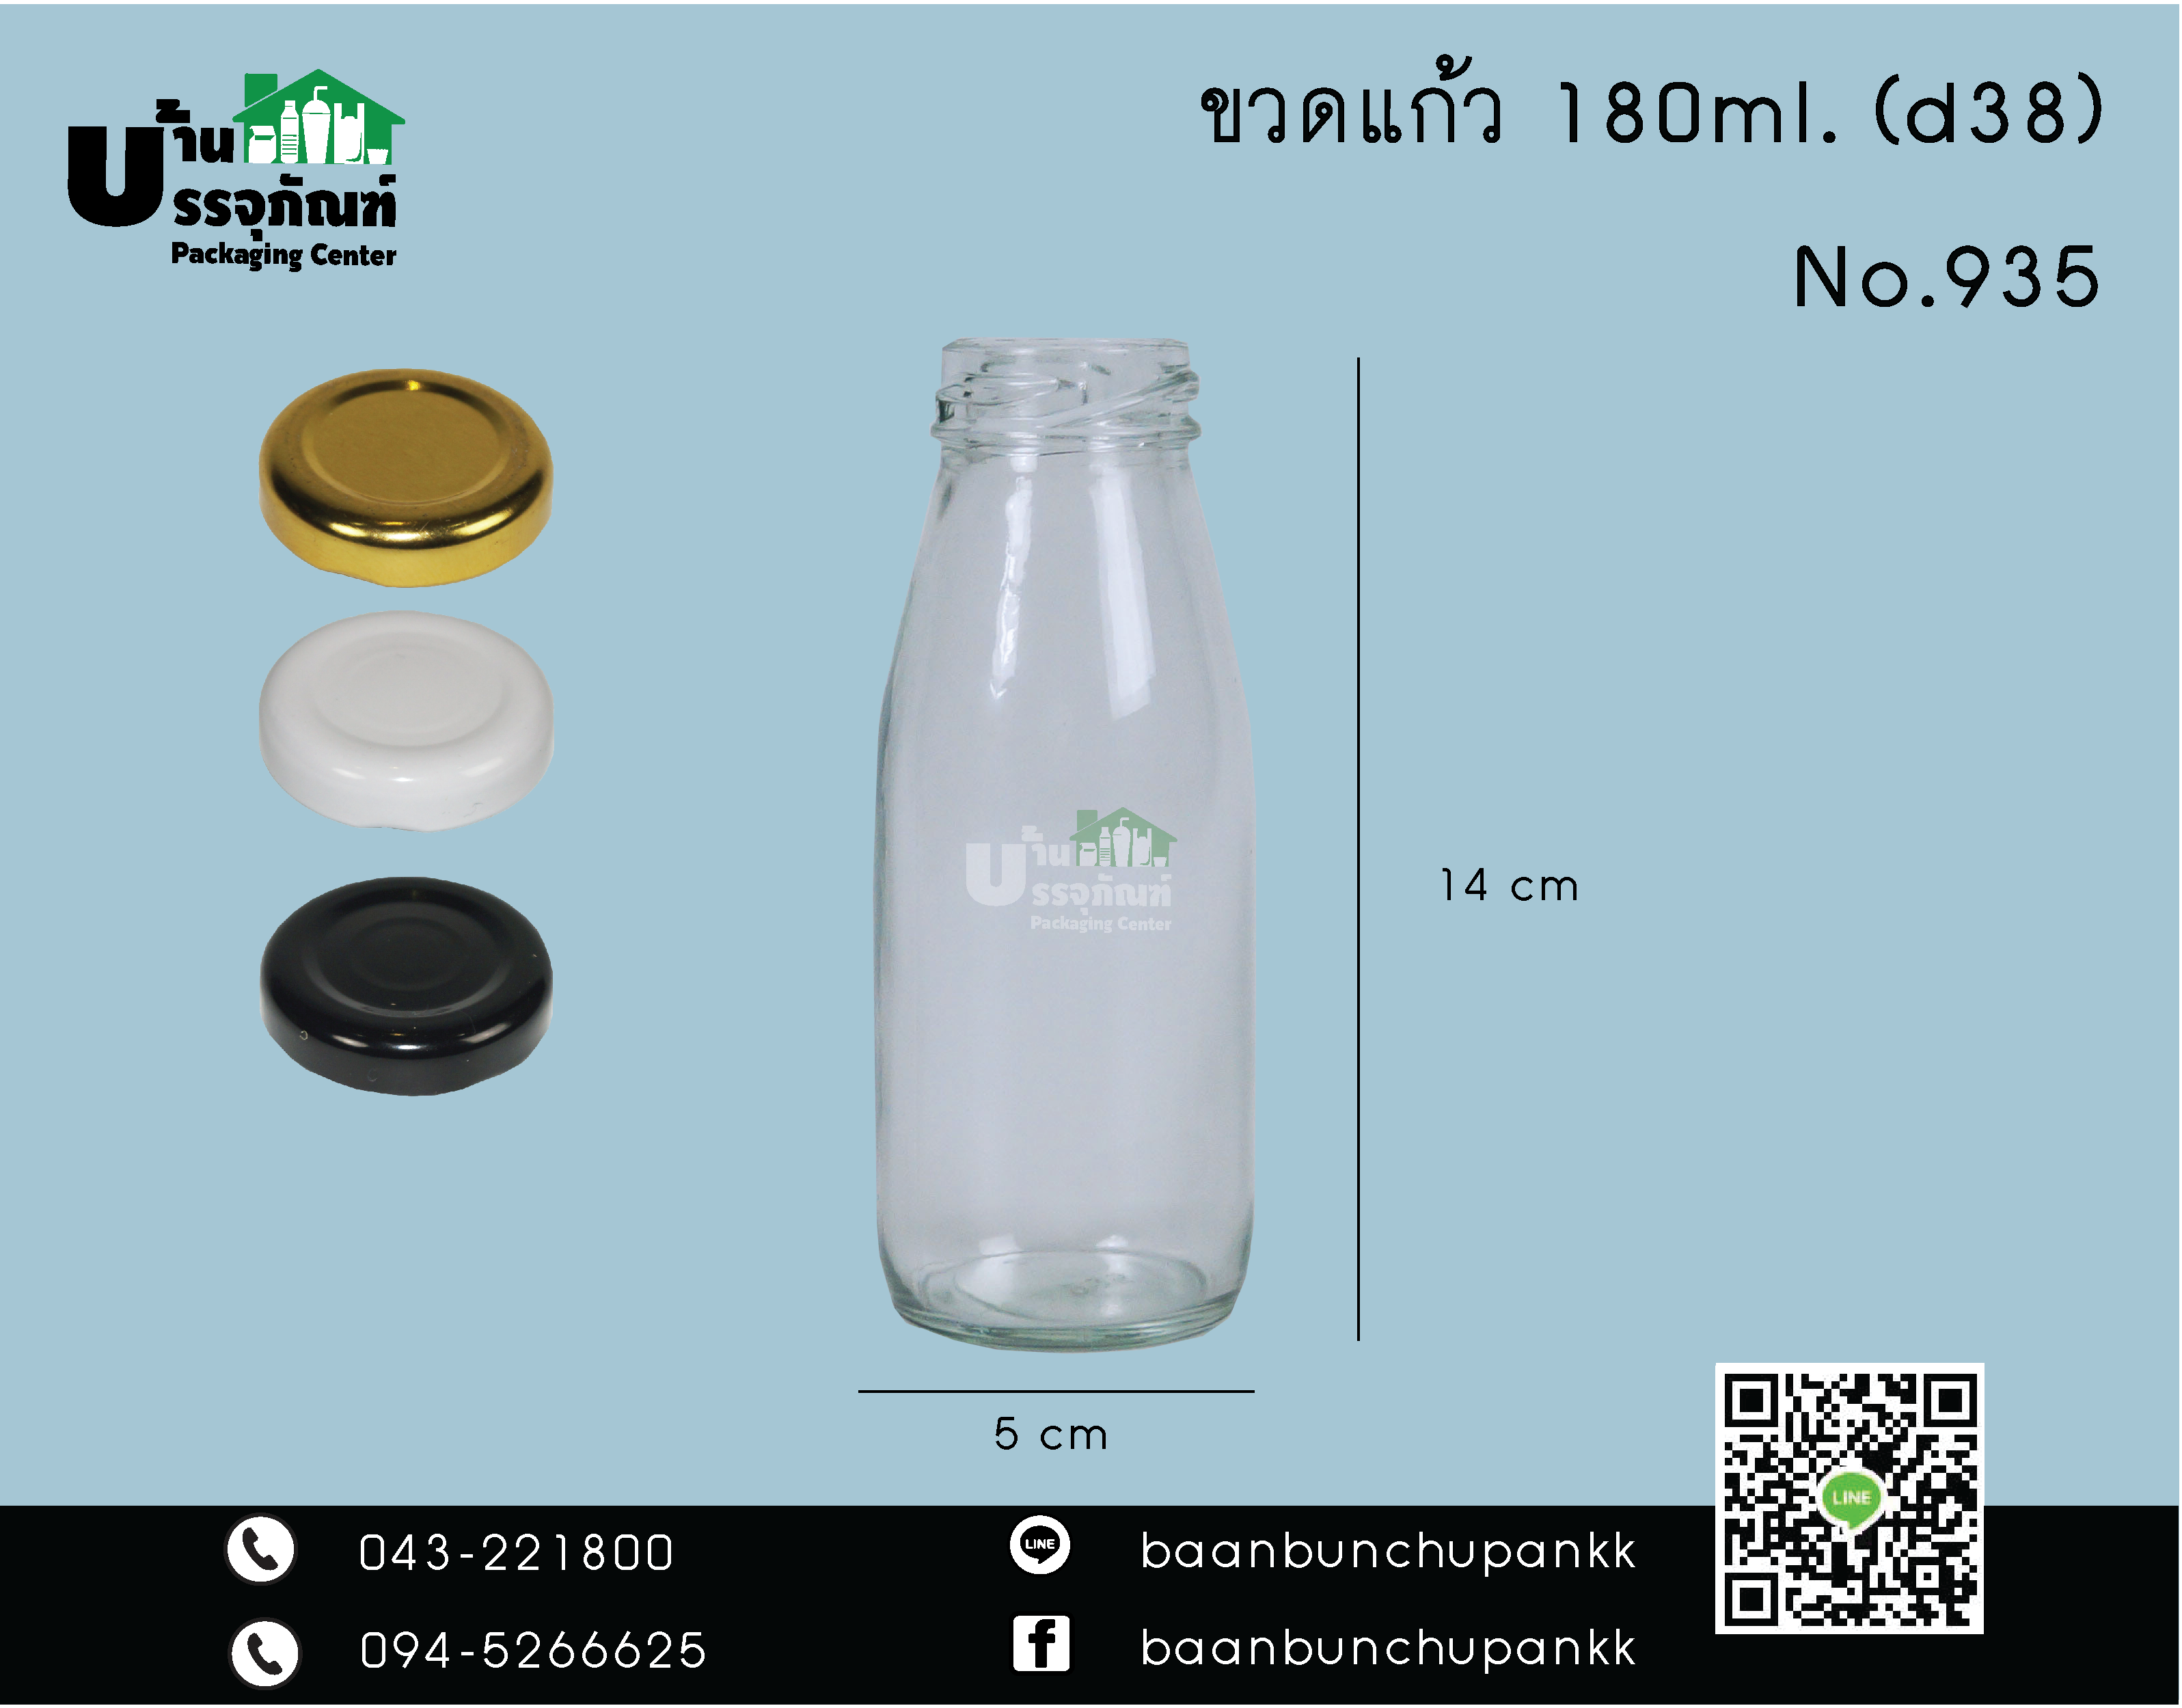glass_bottle: (831, 287, 1300, 1366)
